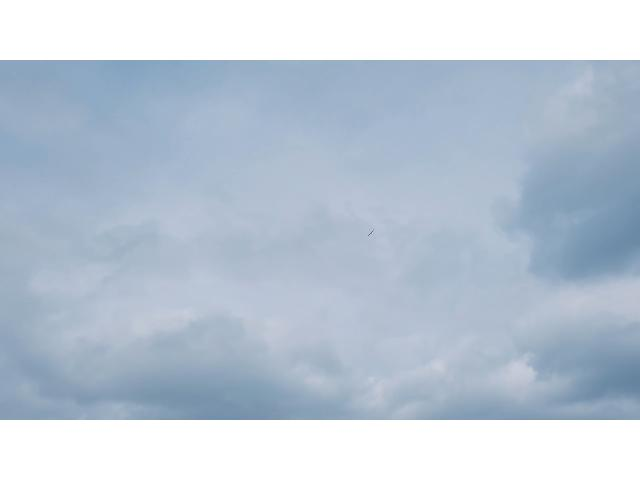Anti-Drone: (366, 226, 376, 240)
